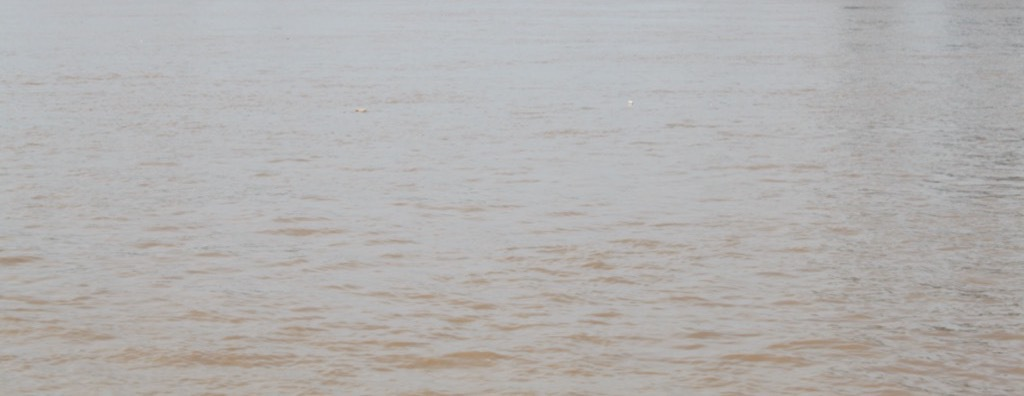plastic: (339, 92, 386, 126), (610, 85, 650, 116)
structure: (838, 1, 901, 204)
